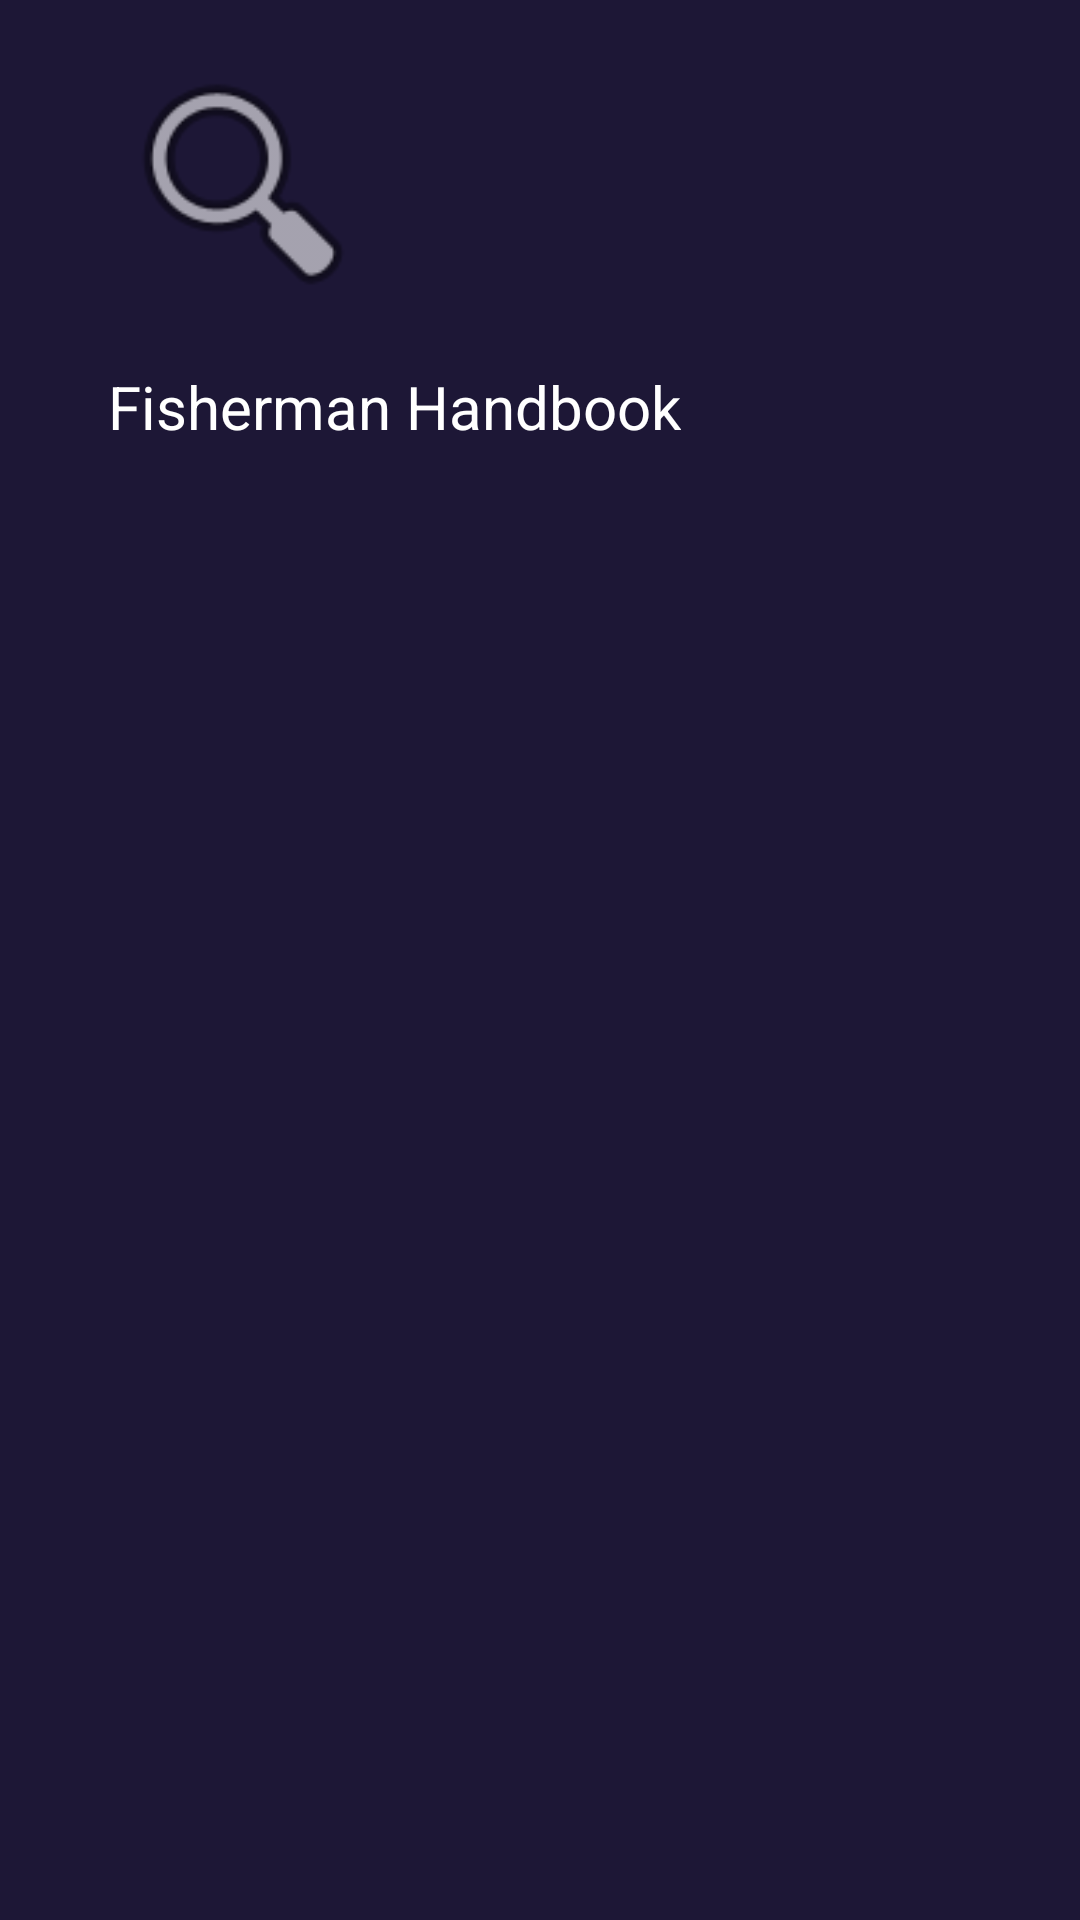

Where icons sit on this 1080 × 1920 app screen, as (x1, y1, x2, y2):
search: (150, 90, 336, 279)
